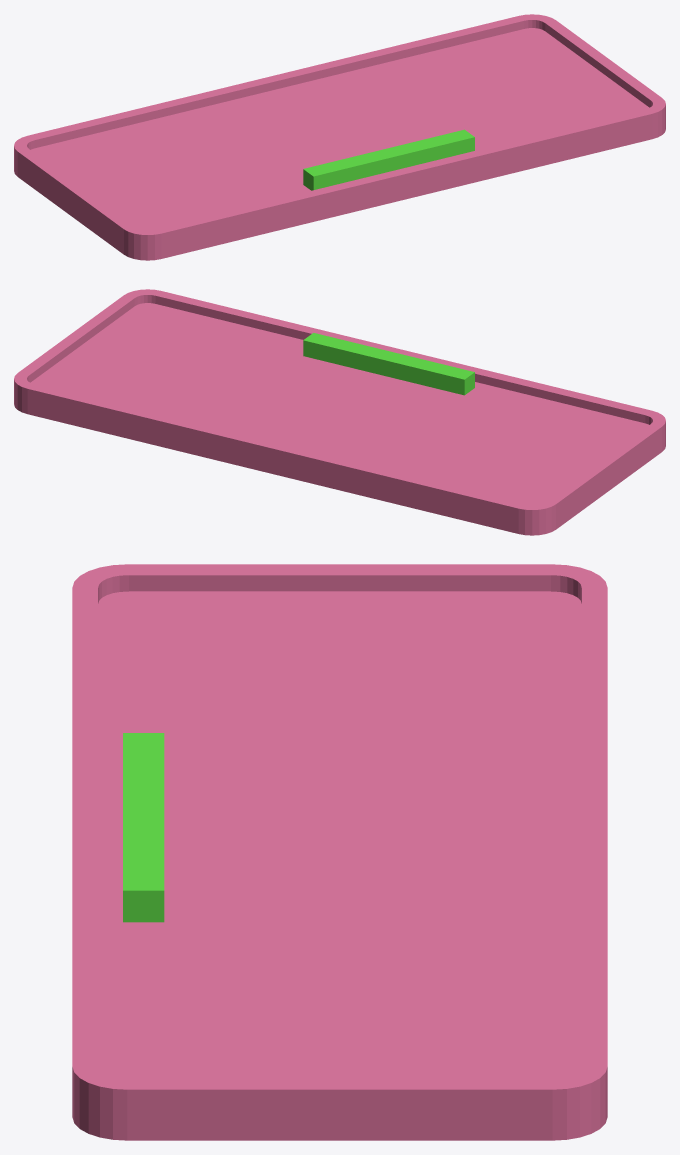
The model's file is NewKeytest.glb.
3 renders of one model, top to bottom at view 1: azimuth 30°, elevation 25°; view 2: azimuth 150°, elevation 25°; view 3: azimuth 270°, elevation 25°, orthographic. The views are drawn at different scales.
Visible parts, largest first — view 1: Keyboard, Space; view 2: Keyboard, Space; view 3: Keyboard, Space.
Boxes of the visible parts, x1,y1,x2,y2 form: Keyboard: (14,14,665,260); Space: (303,129,474,190); Keyboard: (14,289,665,535); Space: (303,333,474,395); Keyboard: (72,564,607,1140); Space: (123,733,164,922).
Bounding box in the file's own units: 1.57 × 0.0919 × 0.6741.
